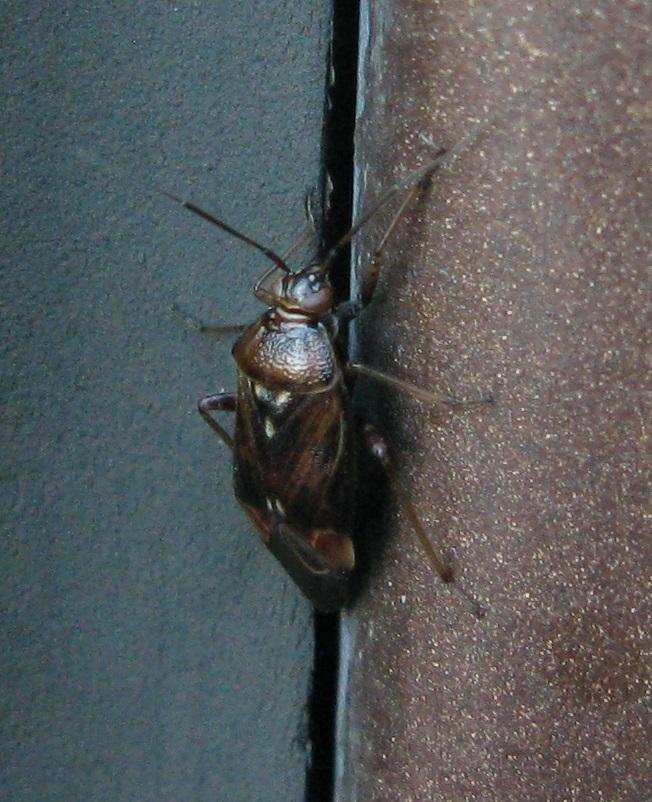plant_bugs: (80, 114, 535, 675)
